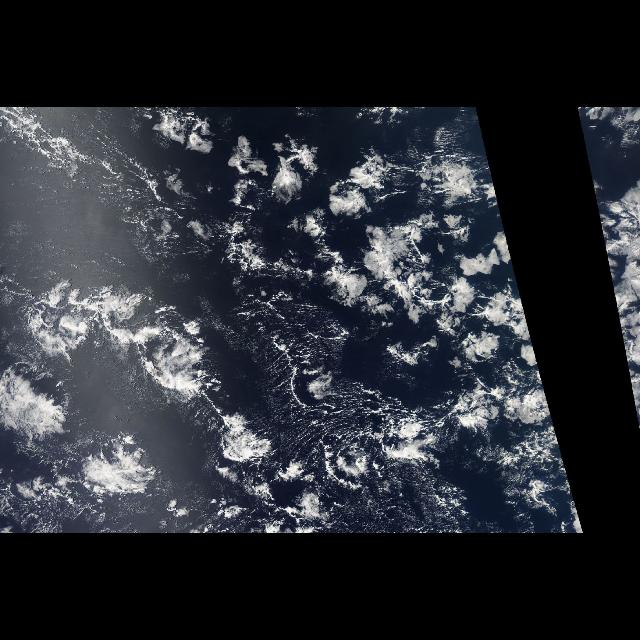Flower: (12, 266, 278, 534), (311, 138, 551, 414), (583, 138, 639, 414)
Gravel: (274, 316, 381, 502)
